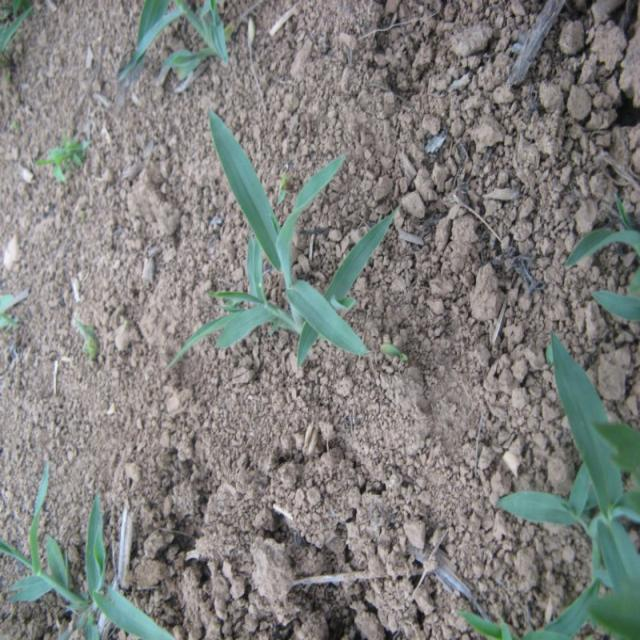bg: (161, 100, 393, 369)
